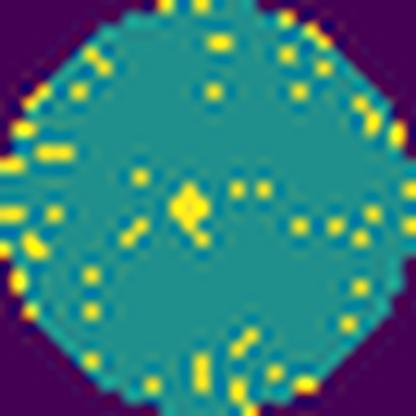Center: (162, 184, 219, 249)
